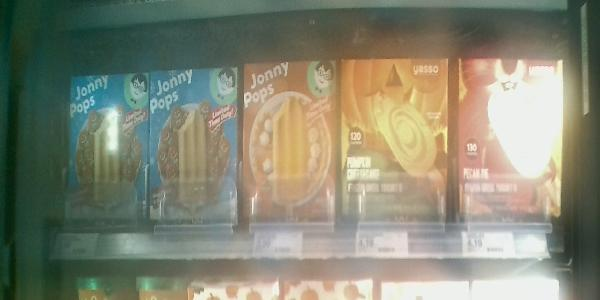icecream: (457, 63, 564, 229), (348, 63, 450, 229), (242, 66, 344, 226), (154, 75, 242, 222), (68, 77, 149, 228)
